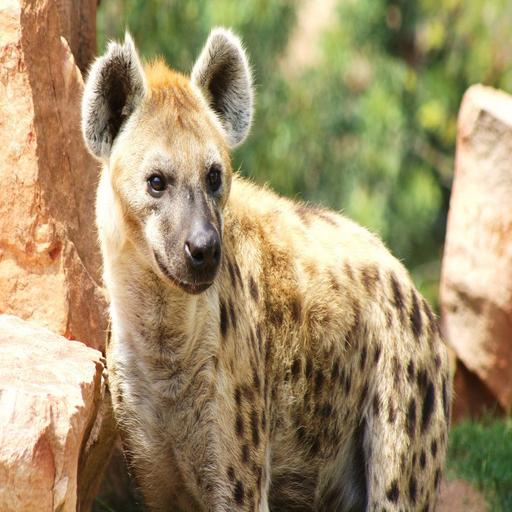Hyena: (76, 27, 463, 512)
